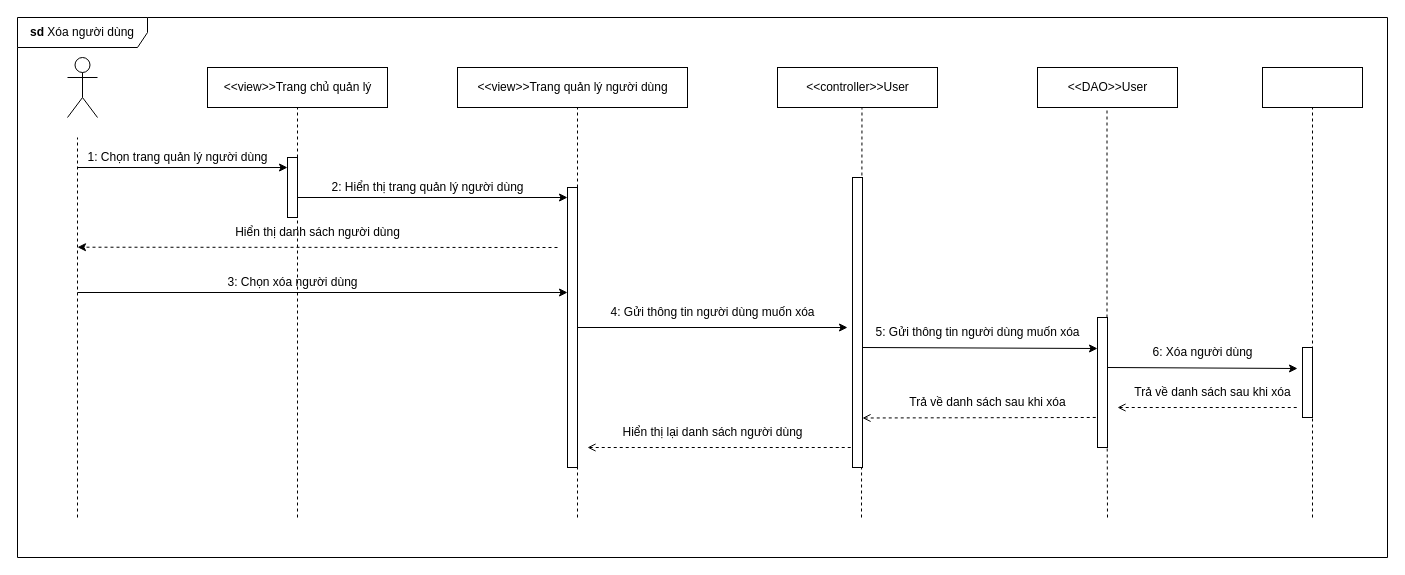
The diagram is 1405 pixels wide and 575 high, and some of its shapes have lost their labels. Here are the shapes that lost their labels. From the top down, the box of each, then its label:
(66, 56, 98, 118): Quản lý
(1262, 66, 1362, 108): Database
